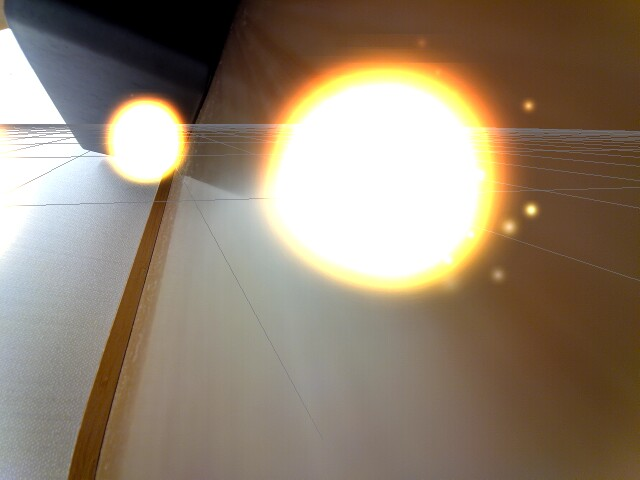firebig: (254, 54, 529, 302)
